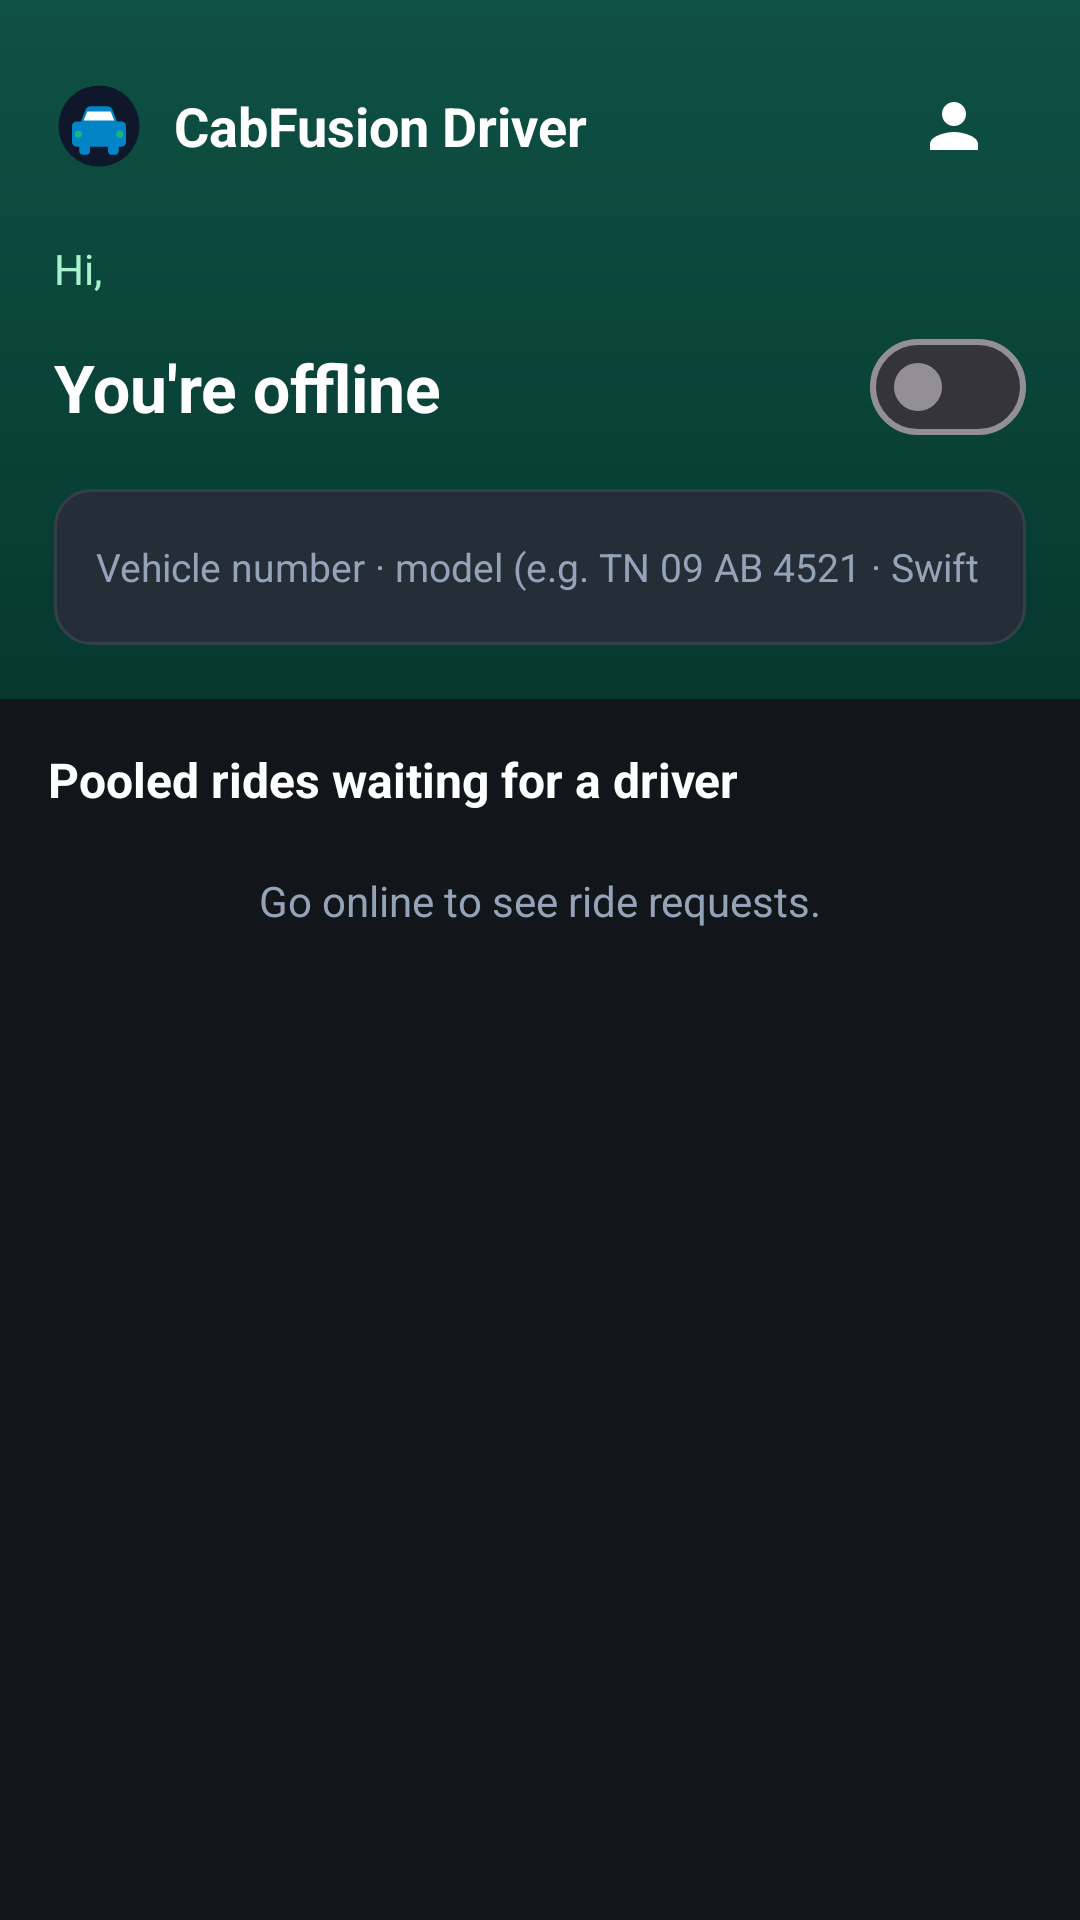

Icon click points for this 1080px×1920px phone screenshot, format (x=x, y=y):
Profile: (x=954, y=126)
